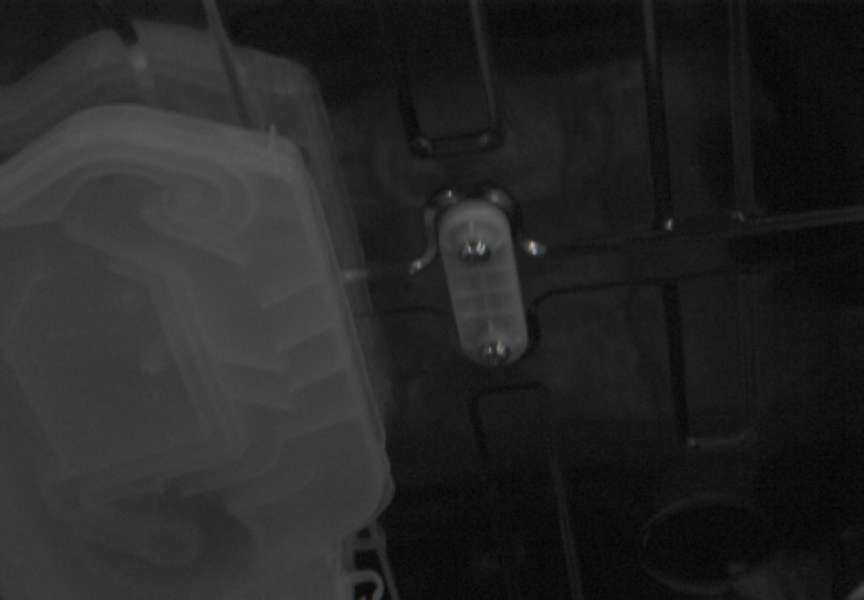screw: (479, 340, 511, 367), (459, 239, 491, 264)
